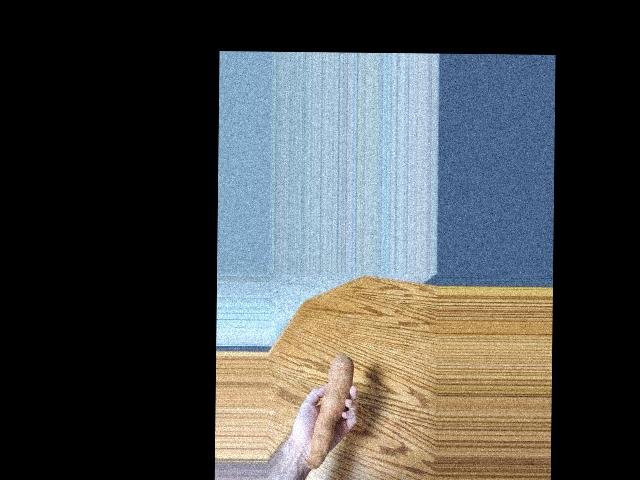sweet_potato: (311, 359, 357, 463)
